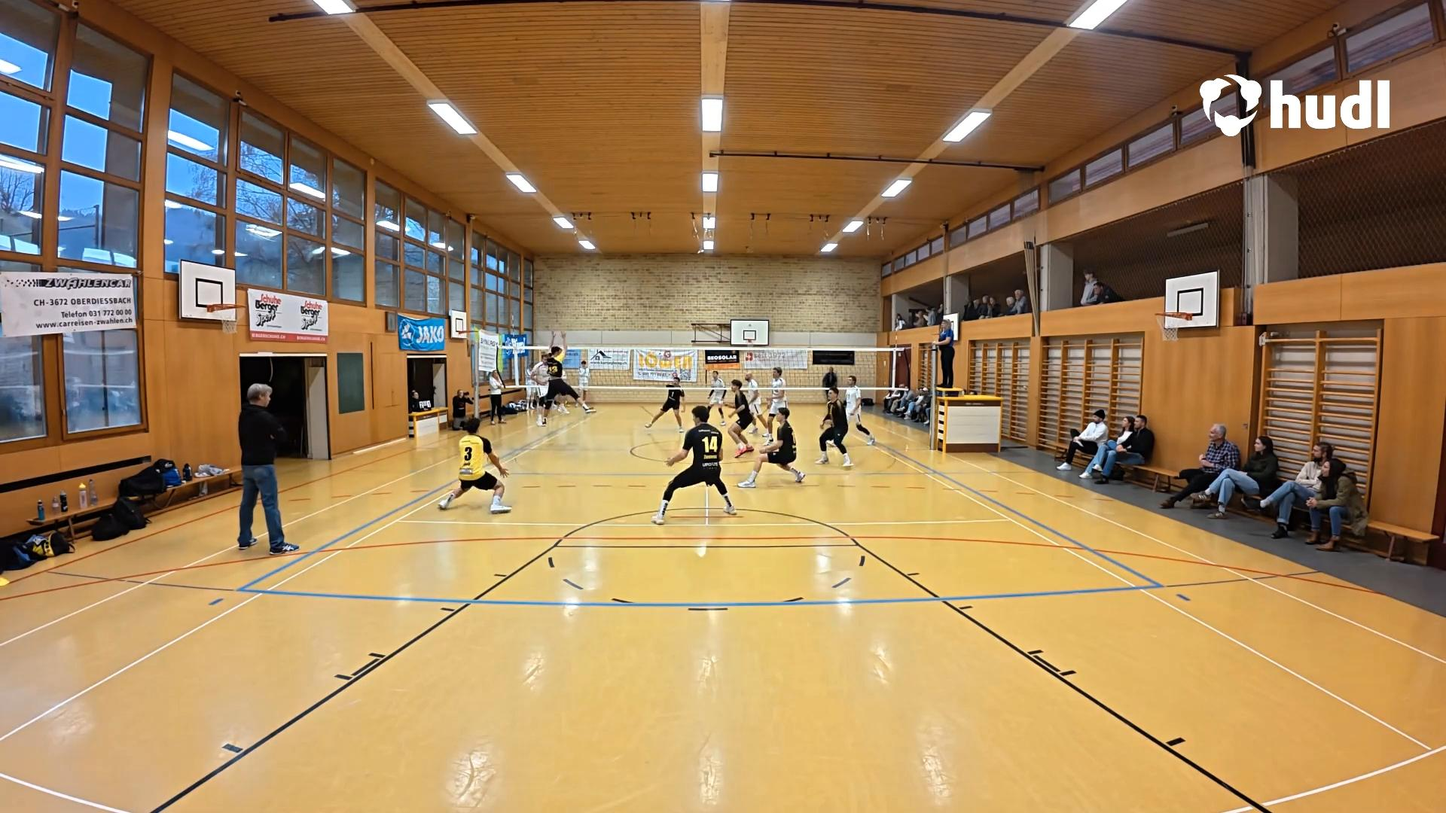Attack: (525, 341, 550, 421)
Block: (540, 330, 596, 426)
Dig: (440, 419, 510, 512)
Player: (653, 407, 737, 520), (744, 404, 806, 488), (816, 385, 851, 470), (724, 377, 757, 460), (646, 376, 688, 428), (845, 373, 875, 443), (763, 365, 788, 439), (743, 369, 769, 434), (699, 365, 727, 424)
ball: (487, 448, 500, 467)
